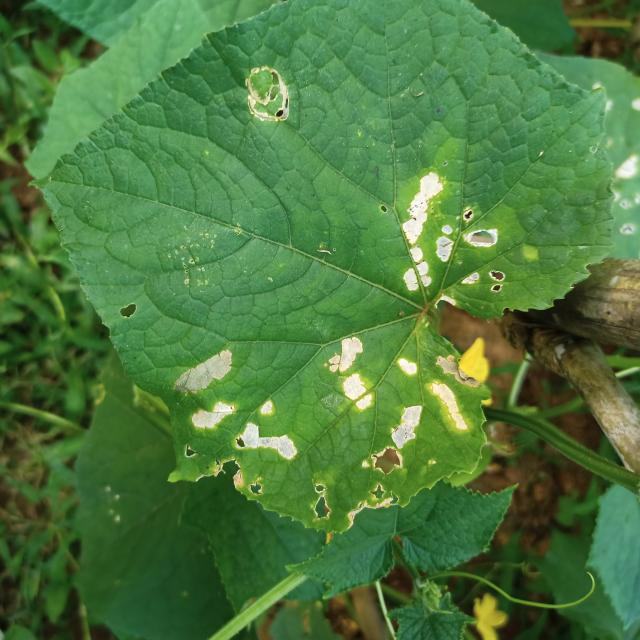disease_cucumber: (390, 170, 506, 312), (384, 332, 477, 469), (169, 345, 237, 432), (324, 334, 378, 417), (238, 400, 302, 463)
